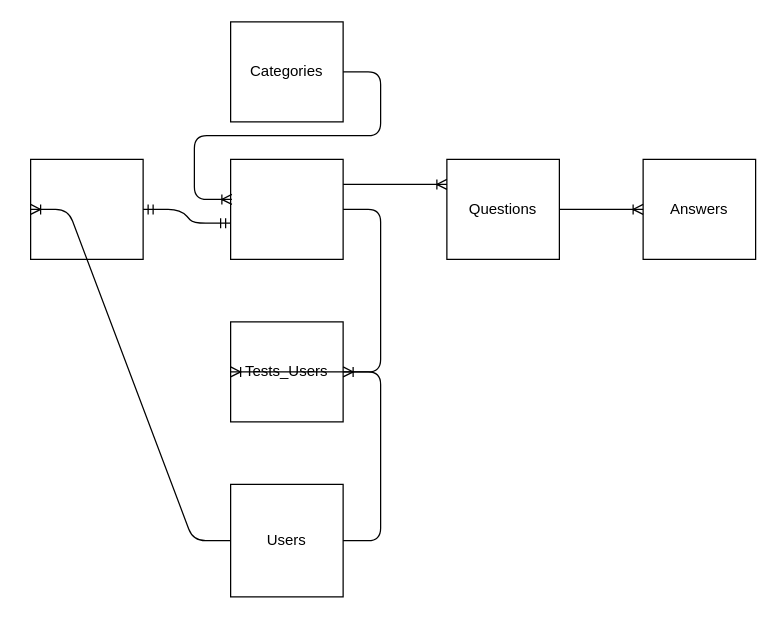
Some shapes in this 778 by 619 pixel diagram are drawn without their labels. The shapes that lost their labels are listed below. From the top down, each one's centre as x and y in pixels, then its label:
At point (86, 208): "Authors".
At point (286, 208): "Tests".
